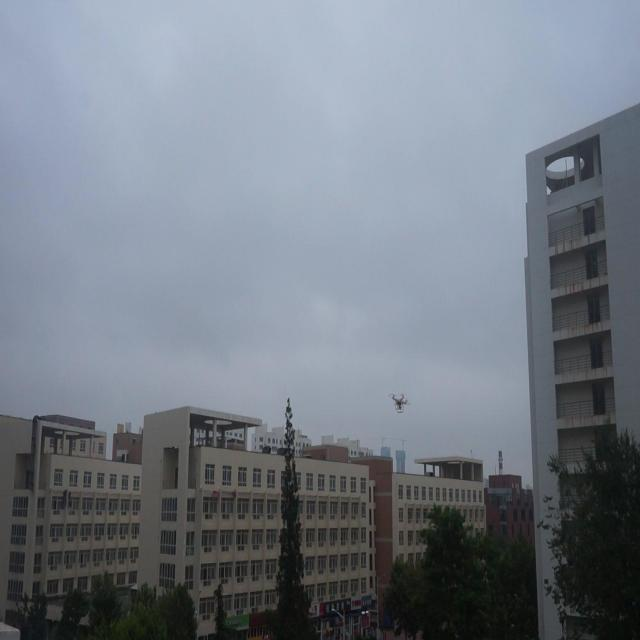UAV: (388, 394, 411, 413)
